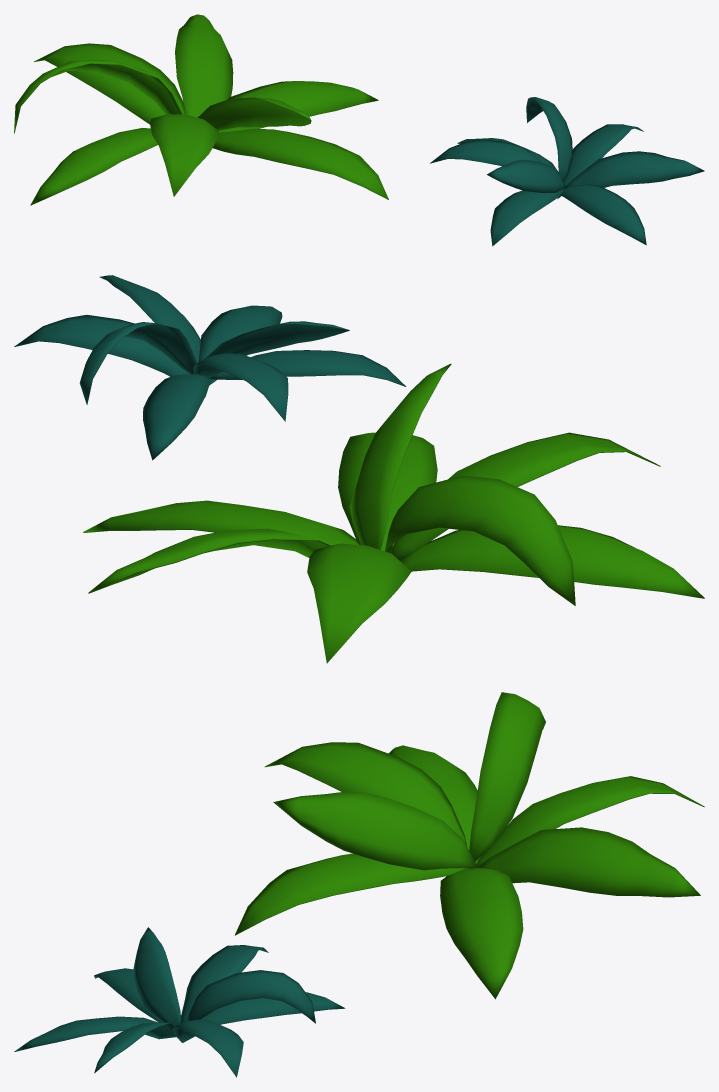
The model's file is bush2.fbx.
3 renders of one model, top to bottom at view 1: azimuth 30°, elevation 25°; view 2: azimuth 150°, elevation 25°; view 3: azimuth 270°, elevation 25°, orthographic. The views are drawn at different scales.
Visible parts, largest first — view 1: Sphere.105, Sphere.110, Sphere.111, Sphere.104, Sphere.106, Sphere.125, Sphere.107, Sphere.108, Sphere.109, Sphere.122, Sphere.123, Sphere.120 (+3 smaller); view 2: Sphere.109, Sphere.104, Sphere.111, Sphere.108, Sphere.107, Sphere.106, Sphere.110, Sphere.105, Sphere.126, Sphere.119, Sphere.120, Sphere.124 (+4 smaller); view 3: Sphere.110, Sphere.108, Sphere.107, Sphere.109, Sphere.106, Sphere.105, Sphere.111, Sphere.124, Sphere.123, Sphere.104, Sphere.121, Sphere.119 (+4 smaller).
Boxes of the visible parts, bbox=[...] form: Sphere.105: bbox=[213, 129, 388, 199]; Sphere.110: bbox=[175, 14, 233, 117]; Sphere.111: bbox=[34, 43, 185, 124]; Sphere.104: bbox=[30, 128, 157, 205]; Sphere.106: bbox=[150, 114, 218, 196]; Sphere.125: bbox=[565, 151, 704, 188]; Sphere.107: bbox=[219, 81, 378, 132]; Sphere.108: bbox=[198, 97, 311, 130]; Sphere.109: bbox=[14, 60, 182, 133]; Sphere.122: bbox=[560, 184, 646, 245]; Sphere.123: bbox=[487, 159, 565, 193]; Sphere.120: bbox=[490, 188, 565, 246]; Sphere.109: bbox=[385, 475, 575, 605]; Sphere.104: bbox=[400, 525, 704, 598]; Sphere.111: bbox=[307, 543, 411, 663]; Sphere.108: bbox=[349, 363, 451, 549]; Sphere.107: bbox=[83, 500, 359, 545]; Sphere.106: bbox=[391, 432, 660, 561]; Sphere.110: bbox=[88, 528, 331, 593]; Sphere.105: bbox=[338, 432, 437, 551]; Sphere.126: bbox=[14, 315, 205, 396]; Sphere.119: bbox=[143, 374, 210, 460]; Sphere.120: bbox=[209, 350, 406, 386]; Sphere.124: bbox=[79, 322, 196, 404]; Sphere.110: bbox=[477, 827, 700, 897]; Sphere.108: bbox=[273, 791, 477, 870]; Sphere.107: bbox=[440, 868, 523, 999]; Sphere.109: bbox=[469, 692, 545, 861]; Sphere.106: bbox=[264, 742, 466, 845]; Sphere.105: bbox=[234, 853, 470, 935]; Sphere.111: bbox=[476, 776, 704, 866]; Sphere.124: bbox=[187, 970, 315, 1023]; Sphere.123: bbox=[133, 927, 180, 1026]; Sphere.104: bbox=[388, 745, 481, 864]; Sphere.121: bbox=[180, 945, 268, 1023]; Sphere.119: bbox=[182, 992, 345, 1036].
Bounding box in the file's own units: 632 × 134 × 582.
